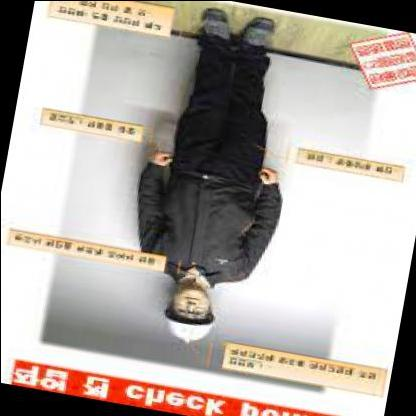safety-shoe: (189, 1, 241, 54), (237, 8, 286, 59)
